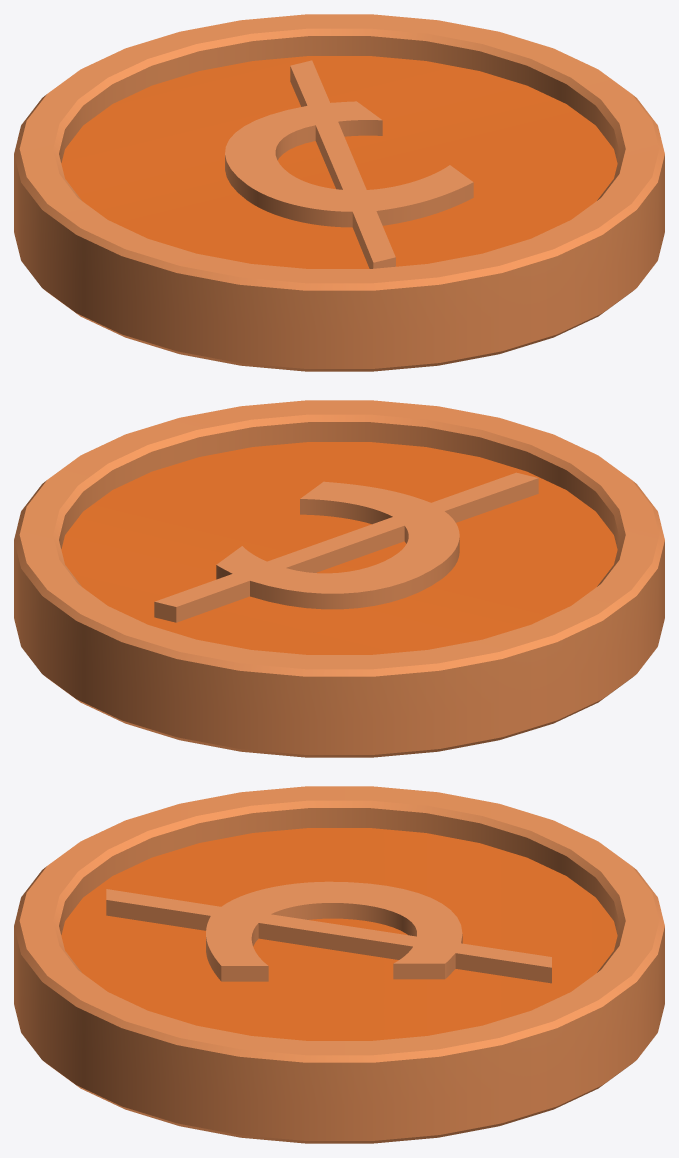
The model's file is Coin (1).fbx.
The picture shows the model from 3 angles, top to bottom: view 1: azimuth 30°, elevation 25°; view 2: azimuth 150°, elevation 25°; view 3: azimuth 270°, elevation 25°; orthographic projection.
Visible parts, largest first — view 1: Coin; view 2: Coin; view 3: Coin.
Part boxes in pixels (box(x1,y1,x2,y2)): Coin: box(14, 14, 664, 371); Coin: box(14, 400, 664, 757); Coin: box(14, 786, 664, 1143).
Size of the model in its own units: 20.27 by 3.05 by 20.38.
